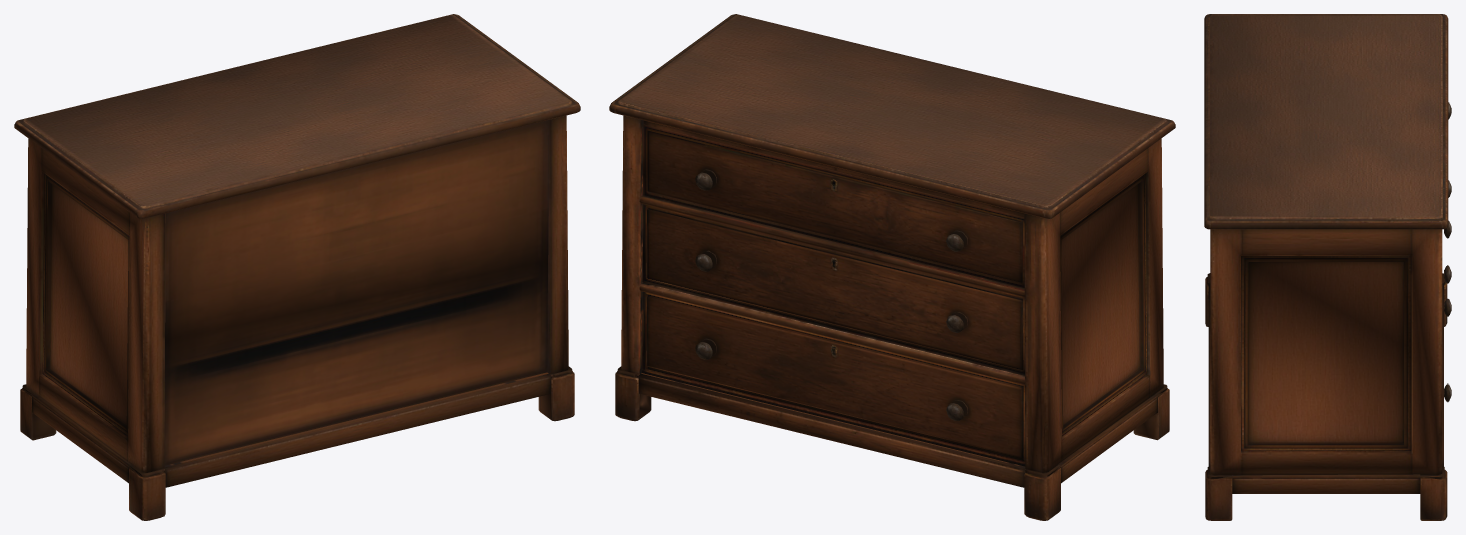
Rendered from furniture-dresser.glb.
3 views of the same model, side by side, from view 1: azimuth 30°, elevation 25°; view 2: azimuth 150°, elevation 25°; view 3: azimuth 270°, elevation 25° (orthographic). The views are drawn at different scales.
Visible parts, largest first — view 1: tripo_node_0b5a8c56-71b5-49f5-800c-1139ee84b7ce; view 2: tripo_node_0b5a8c56-71b5-49f5-800c-1139ee84b7ce; view 3: tripo_node_0b5a8c56-71b5-49f5-800c-1139ee84b7ce.
Part boxes in pixels (x1,y1,x2,y2): tripo_node_0b5a8c56-71b5-49f5-800c-1139ee84b7ce: (14,14,580,520); tripo_node_0b5a8c56-71b5-49f5-800c-1139ee84b7ce: (609,14,1175,520); tripo_node_0b5a8c56-71b5-49f5-800c-1139ee84b7ce: (1204,14,1451,520).
Bounding box in the file's own units: 1.3 × 0.88 × 0.65.
Materials: 1 (1 with a texture image).
